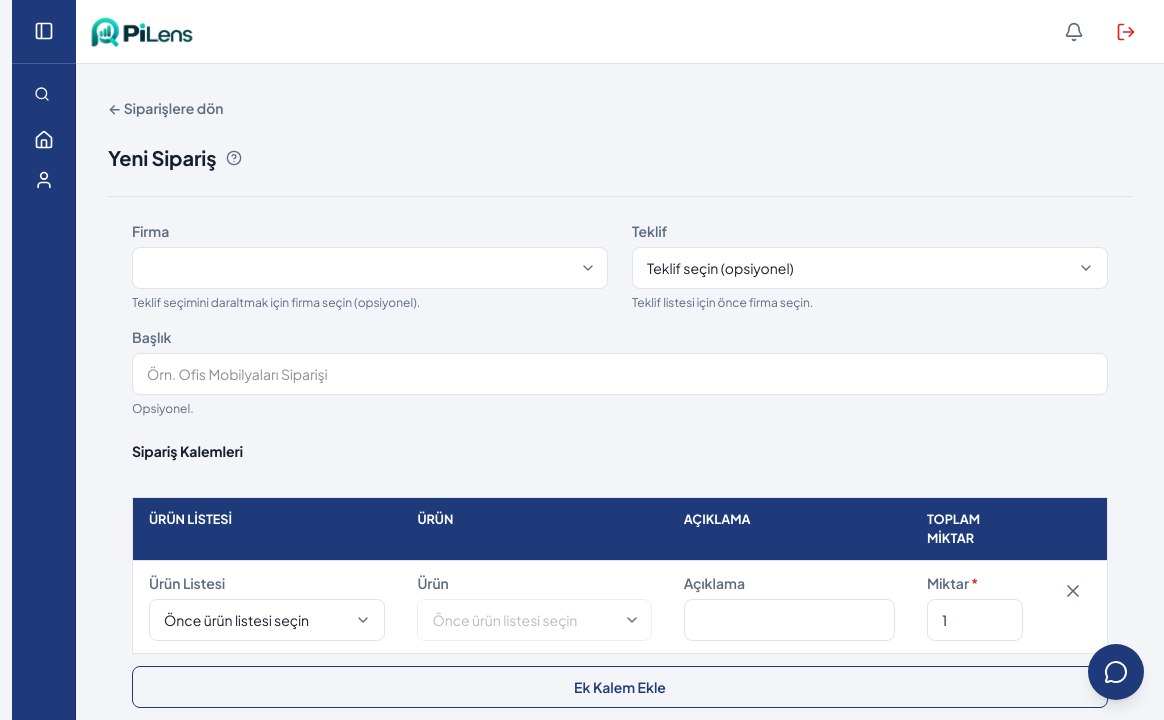
Test case: PurchaseOrderCreatePage › teklif secilmeden manuel kalemlerle siparis olusturur
expect the heading "Yeni Sipariş" is shown: met, box [108,144,216,172]
Step 1. Type "Ofis sarf malzemesi" into the field labelled "Açıklama" → (789, 620), box [684,599,895,641]
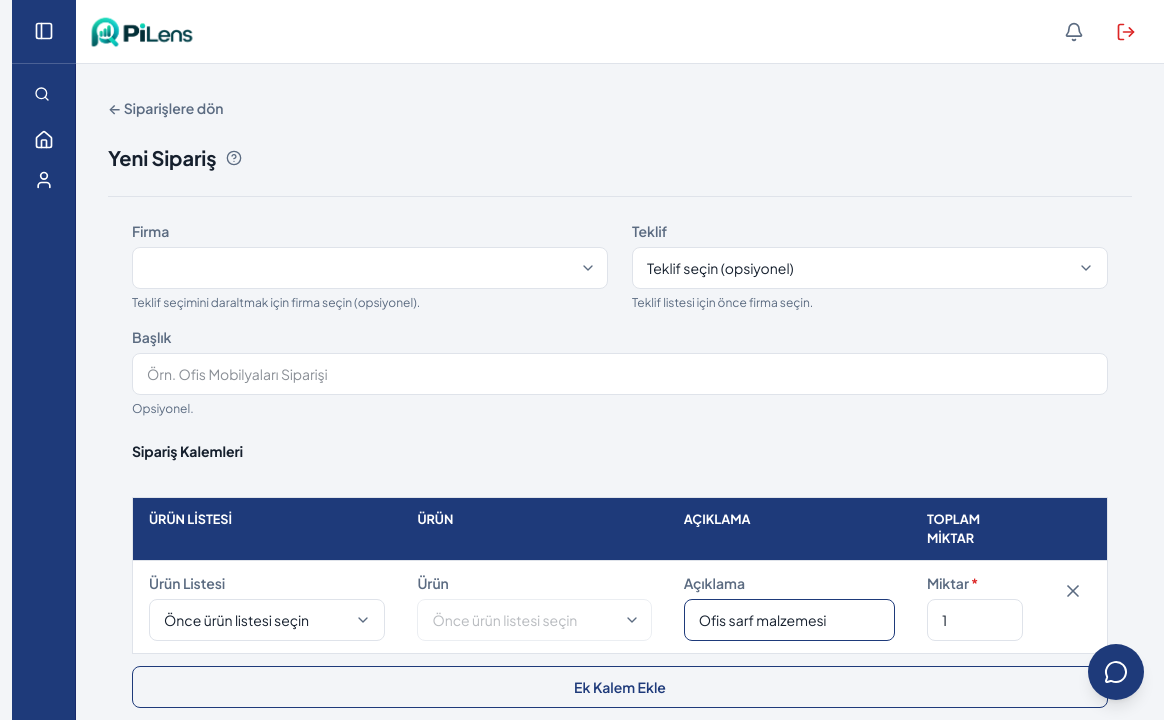
Step 2. Replace the text in the field labelled "Miktar*" with "2" → (975, 620), box [927,599,1023,641]
(page scrolled)
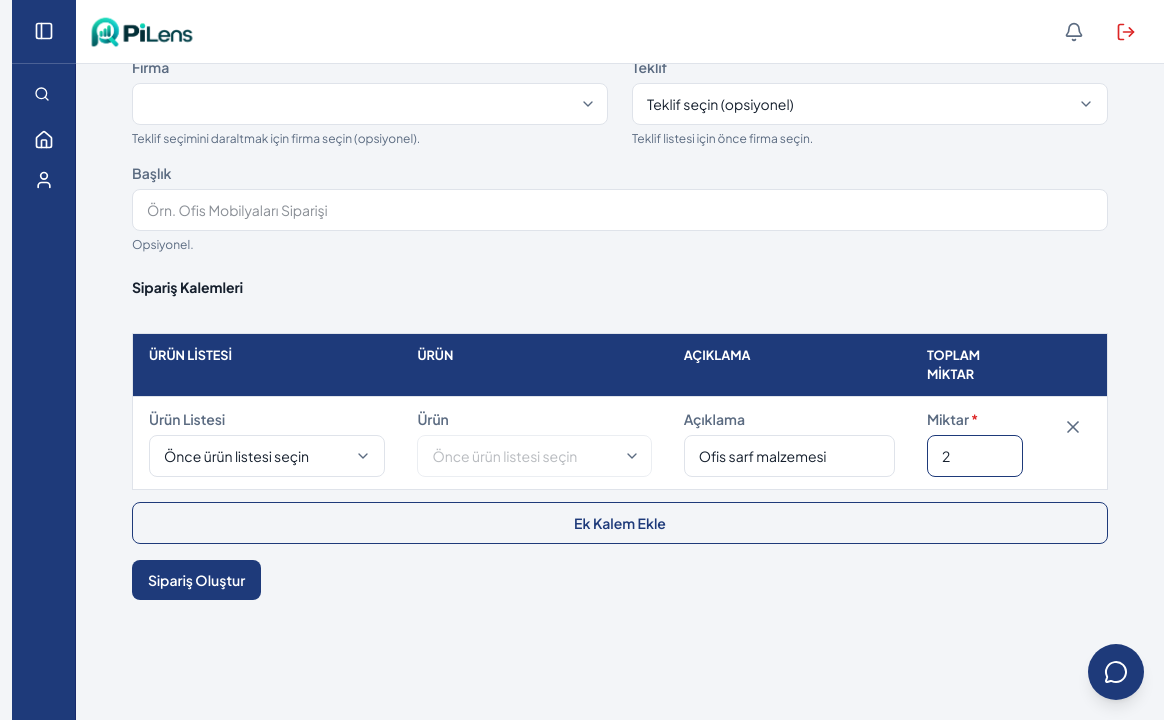
Step 3. Click the button "Sipariş Oluştur" → (197, 580), box [132,560,261,600]
(page scrolled)
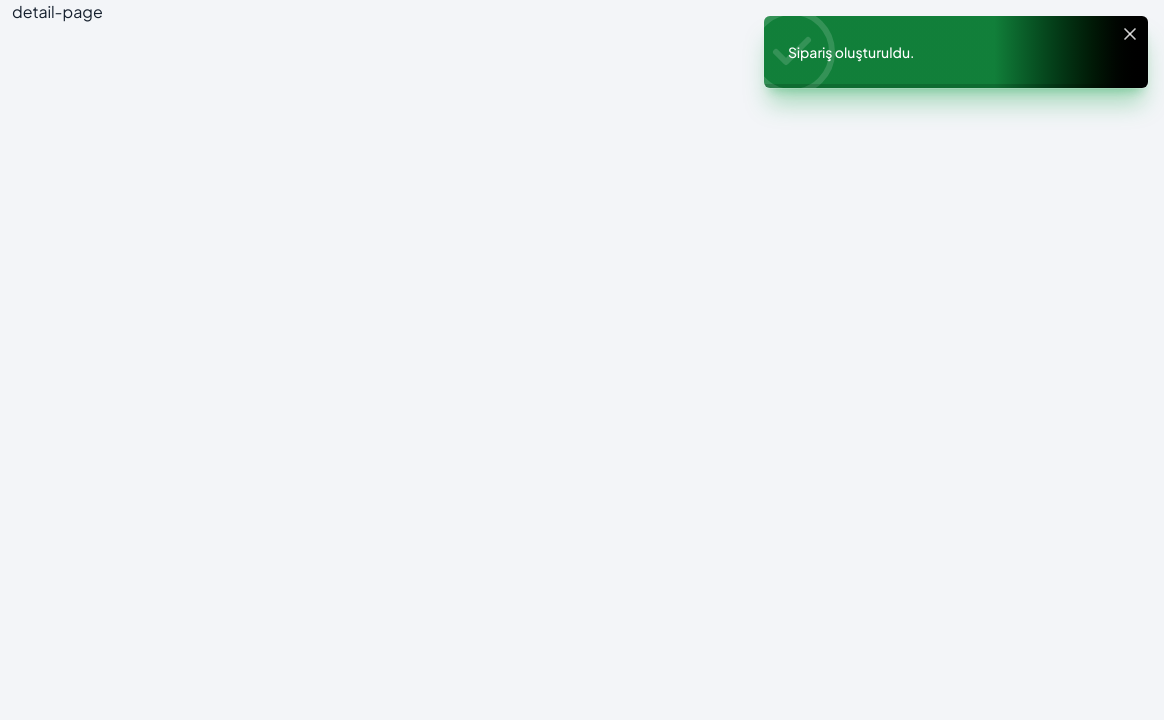
expect the text "detail-page" is shown: met, box [12,1,103,22]
